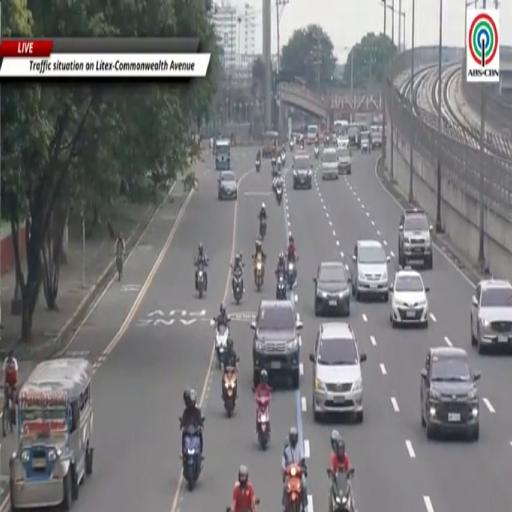car: (310, 323, 366, 423), (421, 347, 480, 440), (251, 300, 302, 389), (471, 280, 511, 353), (352, 240, 390, 301), (390, 268, 429, 327), (399, 208, 433, 269), (313, 262, 350, 315), (292, 153, 312, 189), (218, 171, 237, 200), (321, 148, 338, 180), (337, 141, 351, 174), (348, 123, 360, 148), (371, 125, 382, 149), (361, 132, 371, 153), (337, 137, 349, 149)
jeepney: (9, 359, 93, 510), (215, 140, 230, 170), (262, 131, 278, 157)
motorcycle: (182, 426, 203, 490), (327, 469, 356, 511), (286, 463, 303, 511), (2, 383, 16, 437), (256, 396, 270, 450), (214, 319, 229, 367), (223, 367, 236, 418), (232, 270, 244, 305), (195, 262, 205, 298), (255, 254, 263, 291), (276, 274, 286, 300), (287, 262, 296, 290), (116, 254, 123, 281), (259, 218, 266, 240), (276, 184, 282, 204), (271, 156, 276, 170), (314, 146, 319, 158), (289, 140, 294, 151), (256, 160, 260, 172), (282, 151, 285, 166), (277, 160, 281, 171), (255, 499, 260, 506)
